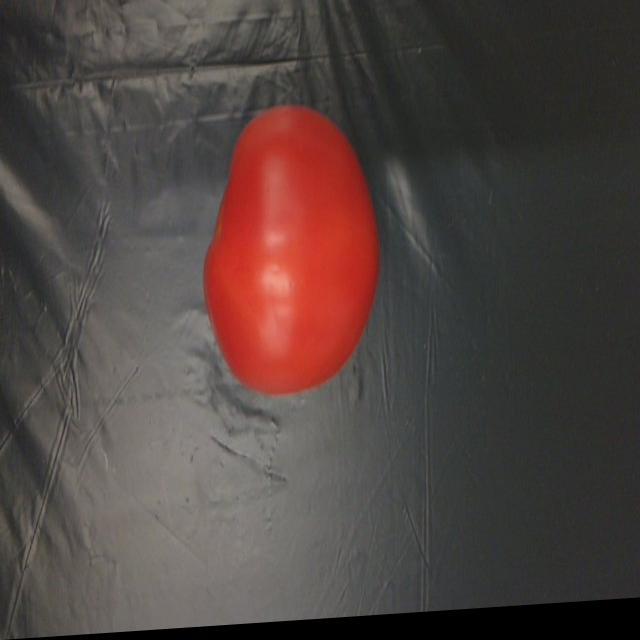kirmizi: (190, 81, 383, 401)
